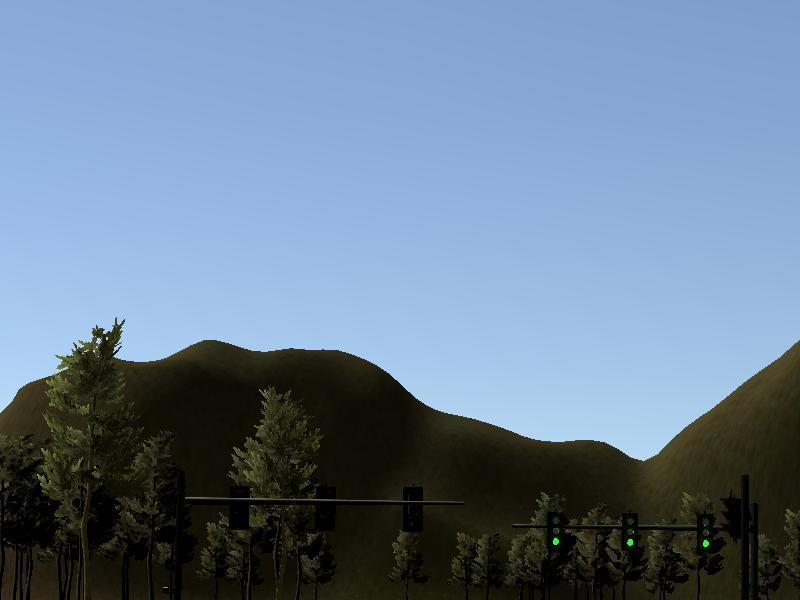Green: (546, 513, 566, 552), (695, 513, 714, 553), (621, 513, 638, 552)
